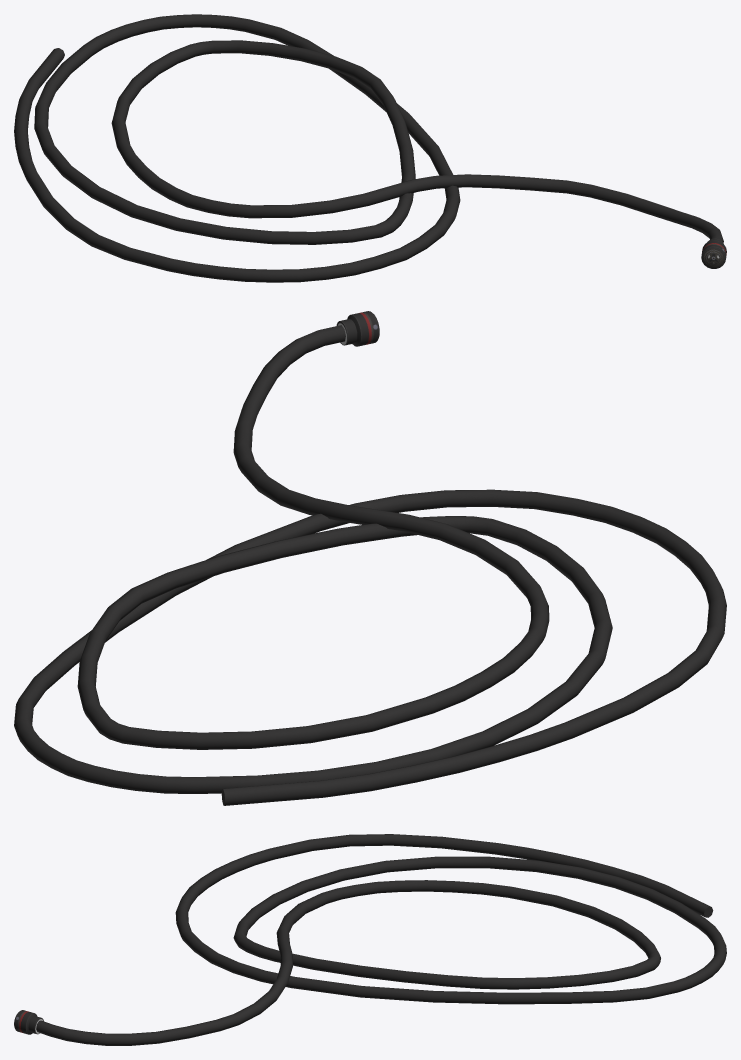
File: SM_Wire_A.FBX
The picture shows the model from 3 angles, top to bottom: view 1: azimuth 30°, elevation 25°; view 2: azimuth 150°, elevation 25°; view 3: azimuth 270°, elevation 25°; orthographic projection. The views are drawn at different scales.
Visible parts, largest first — view 1: SM_Wire_A; view 2: SM_Wire_A; view 3: SM_Wire_A.
Part boxes in pixels (x1,y1,x2,y2): SM_Wire_A: (14,14,726,282); SM_Wire_A: (14,311,726,805); SM_Wire_A: (14,834,726,1045).
Size of the model in its own units: 280 by 15.92 by 403.
Materials: 1 (1 with a texture image).
